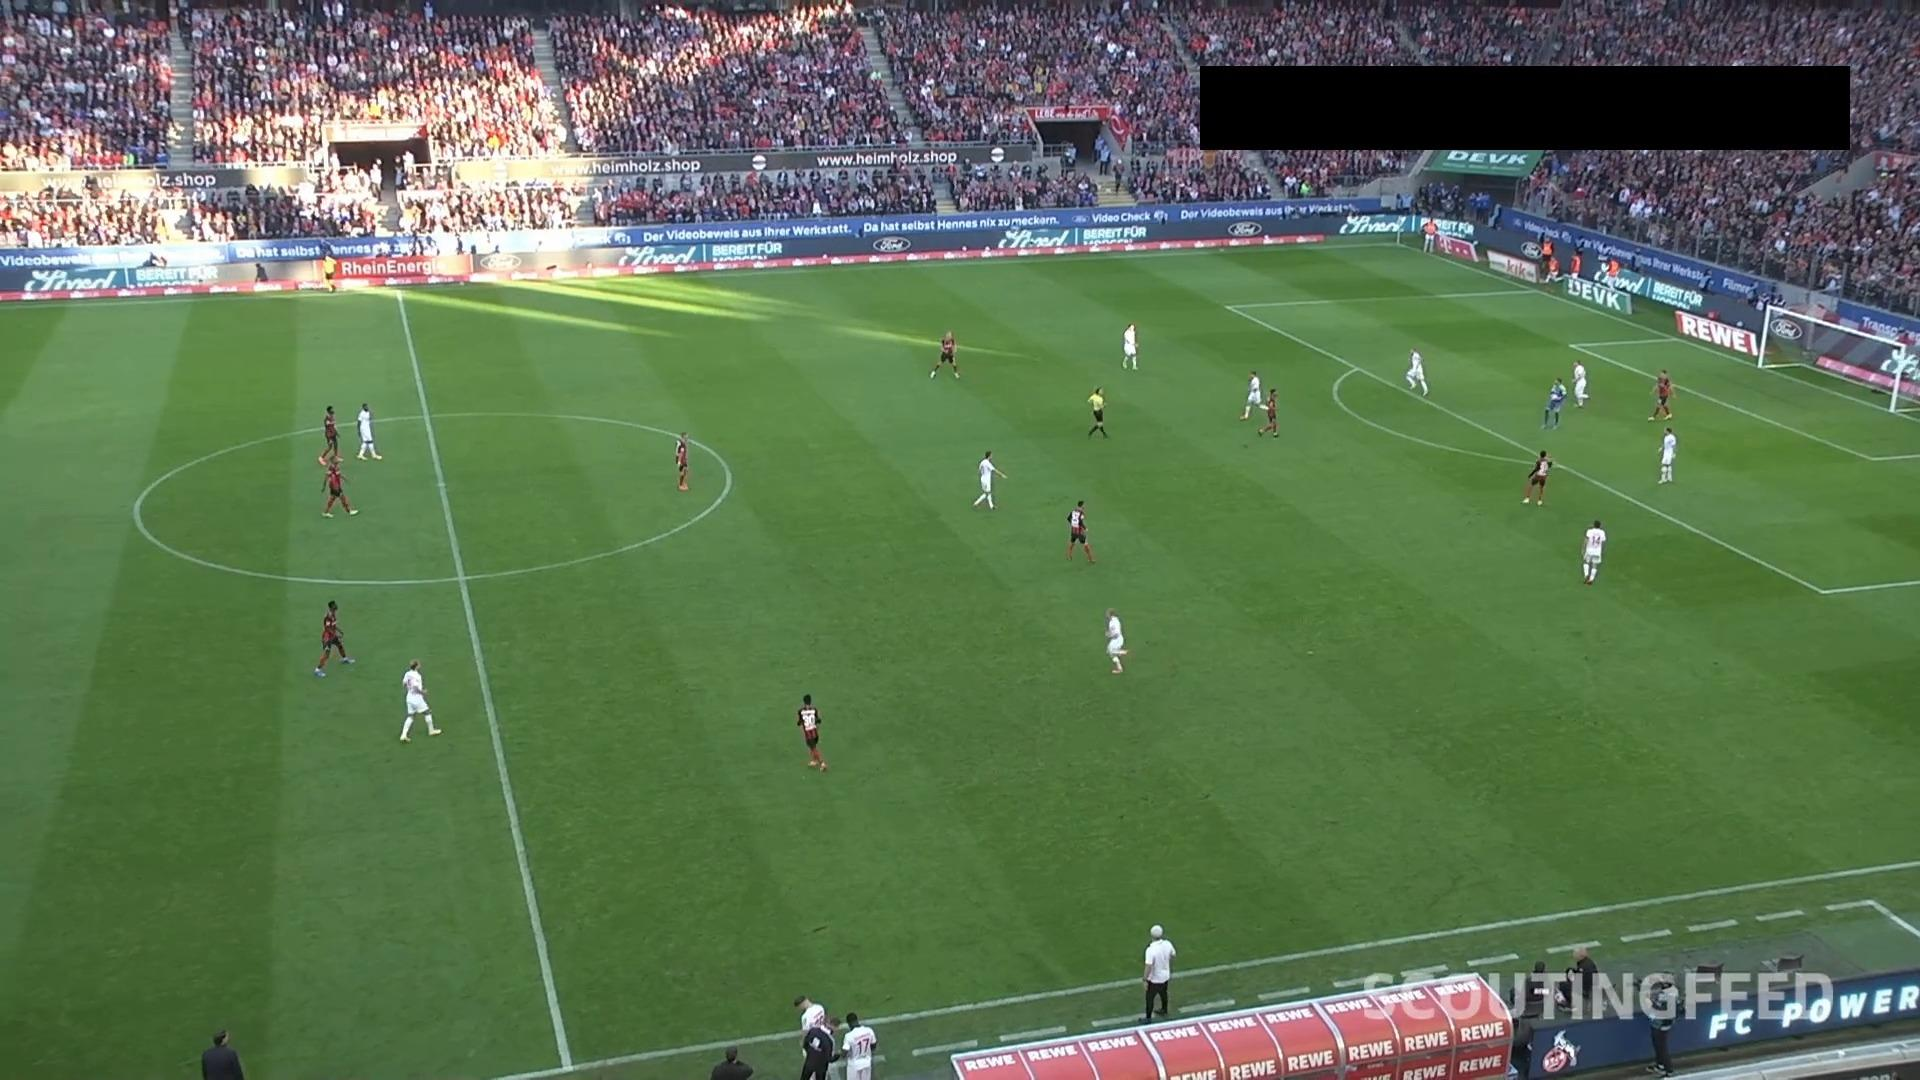ball: (1551, 393, 1559, 401)
